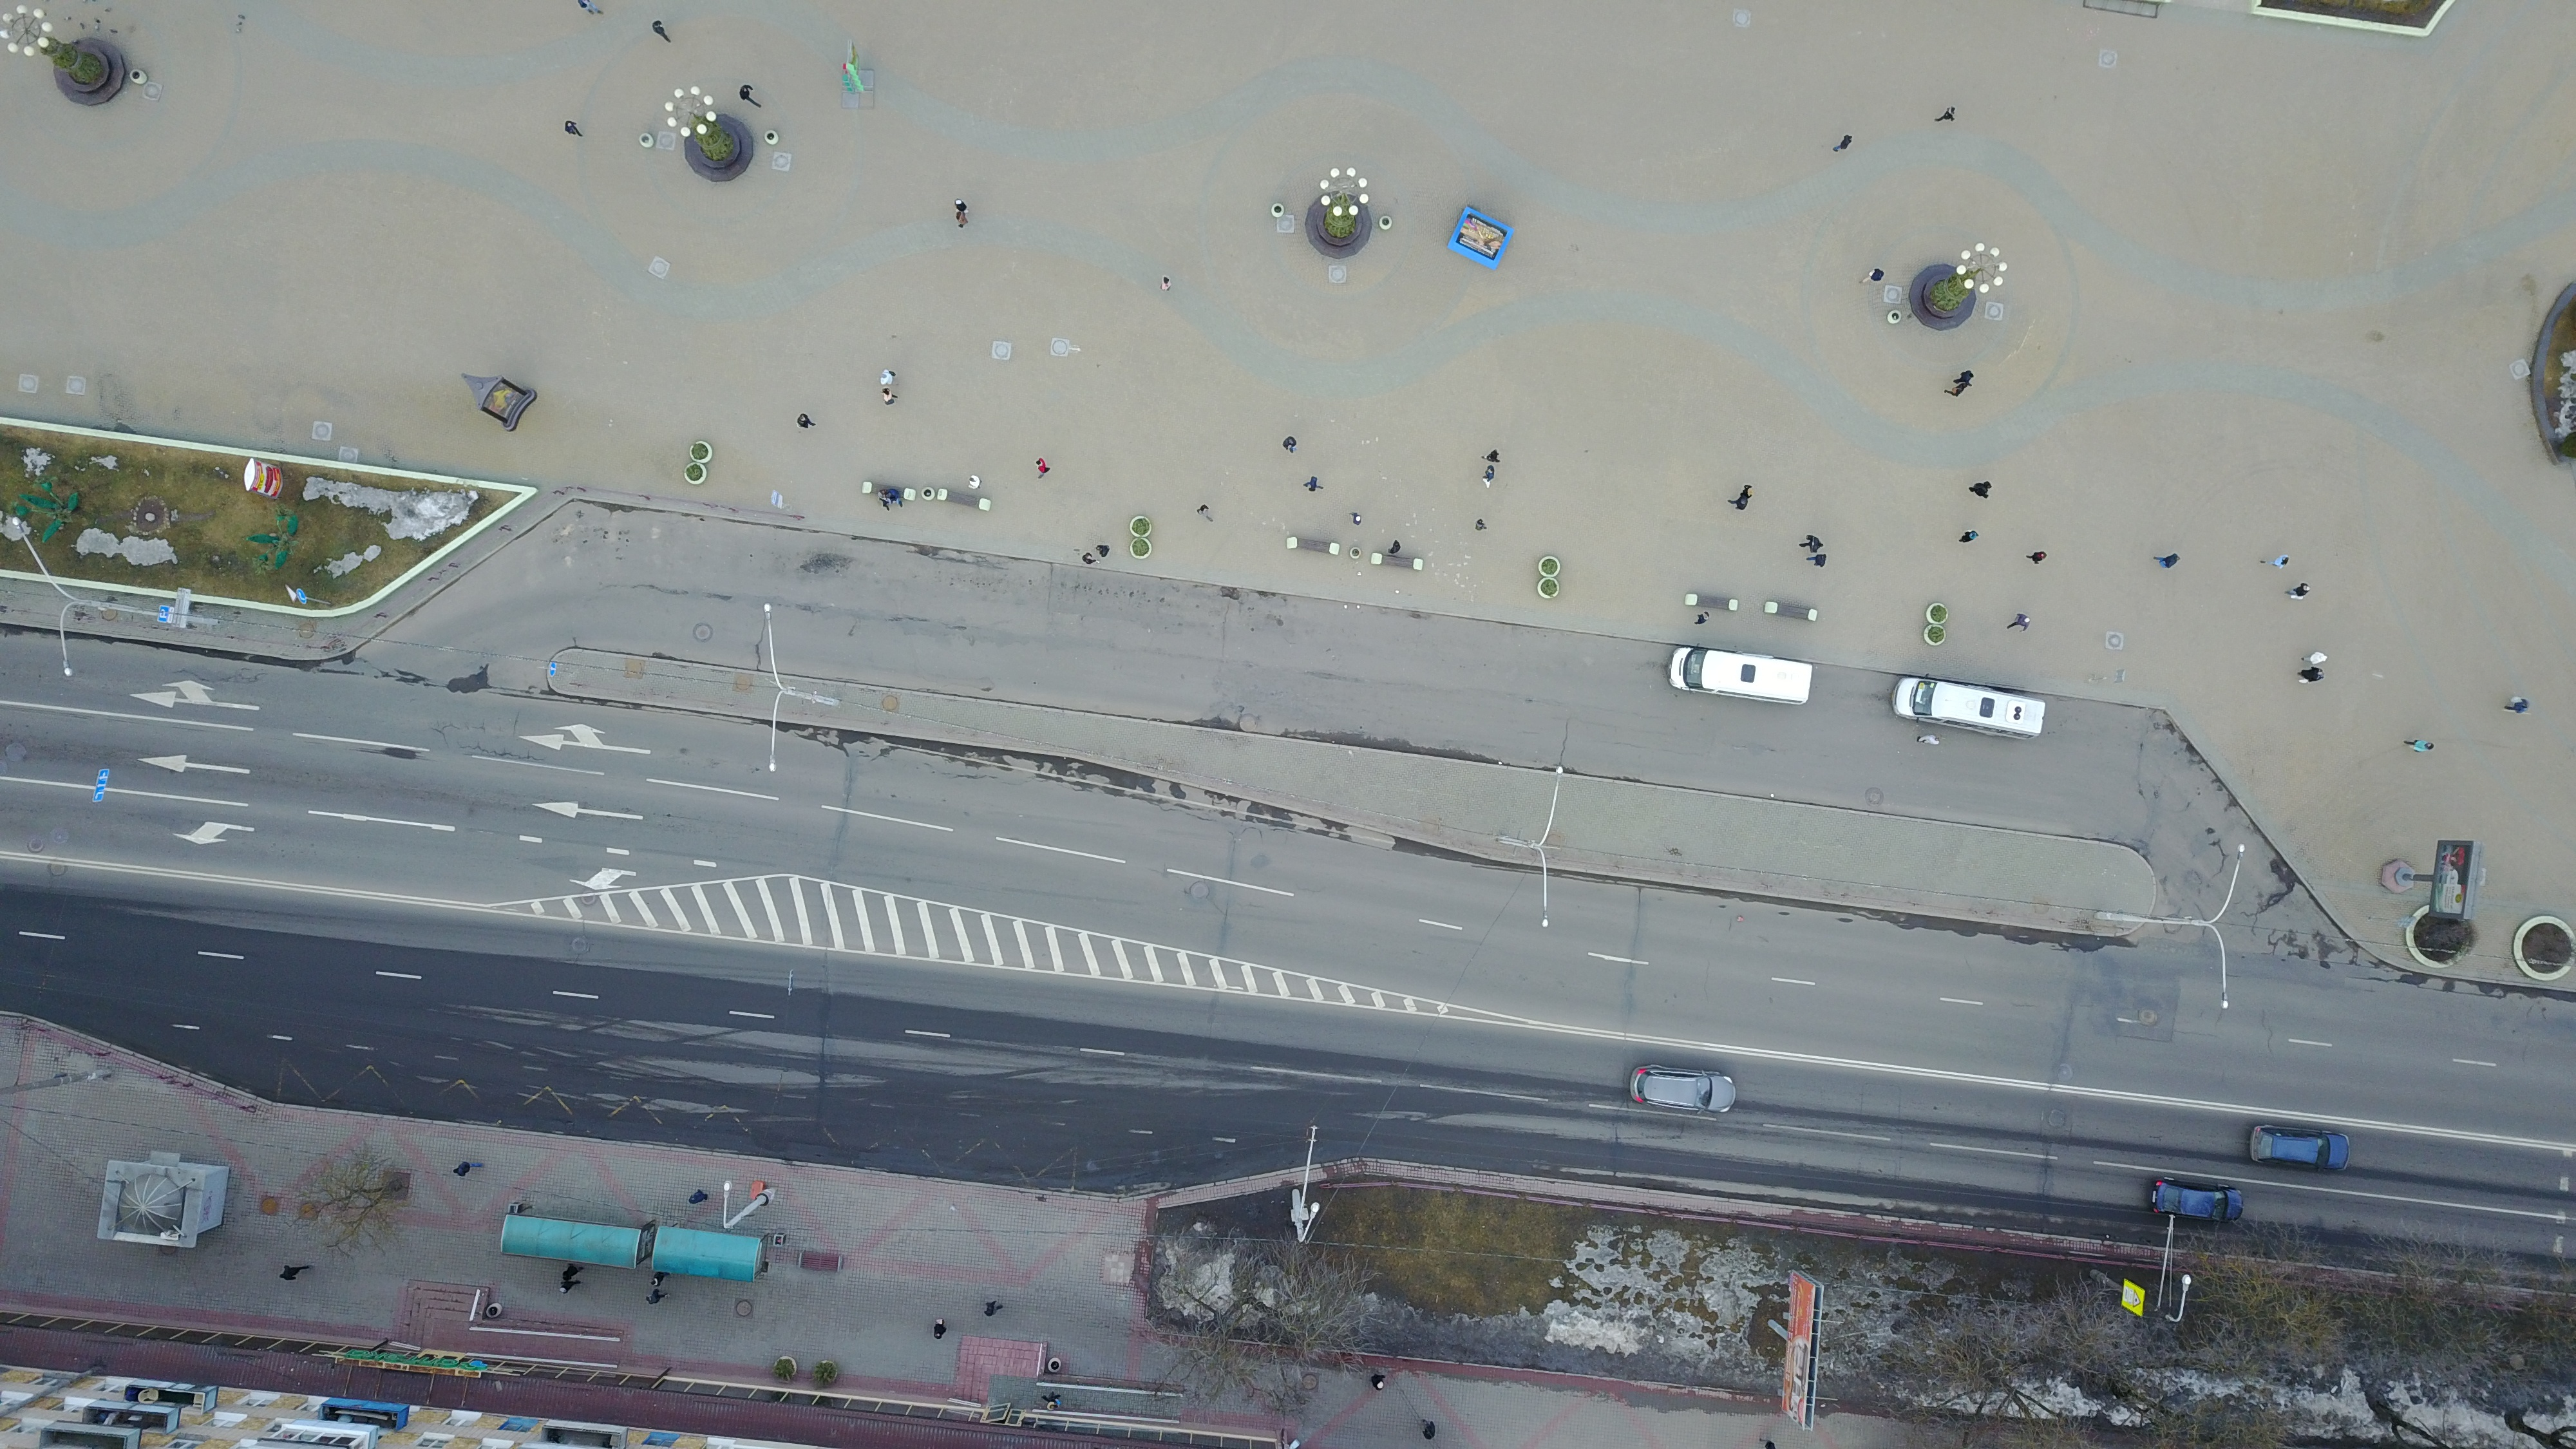car: (1626, 1062, 1743, 1118), (2252, 1120, 2358, 1178), (2148, 1168, 2247, 1226)
